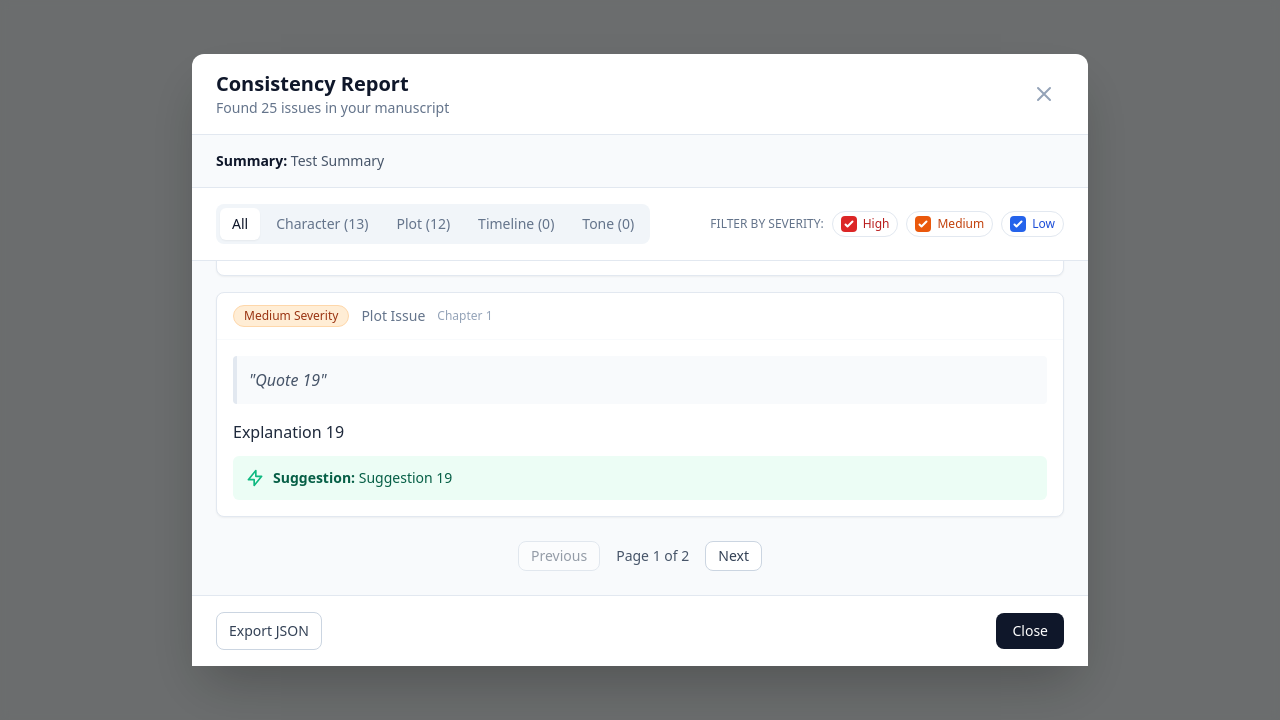
Test case: ConsistencyReportViewer › navigates to next page
This screenshot has width=1280, height=720.
(page scrolled)
Click the button "Next" at (734, 556), box [705, 541, 762, 571]
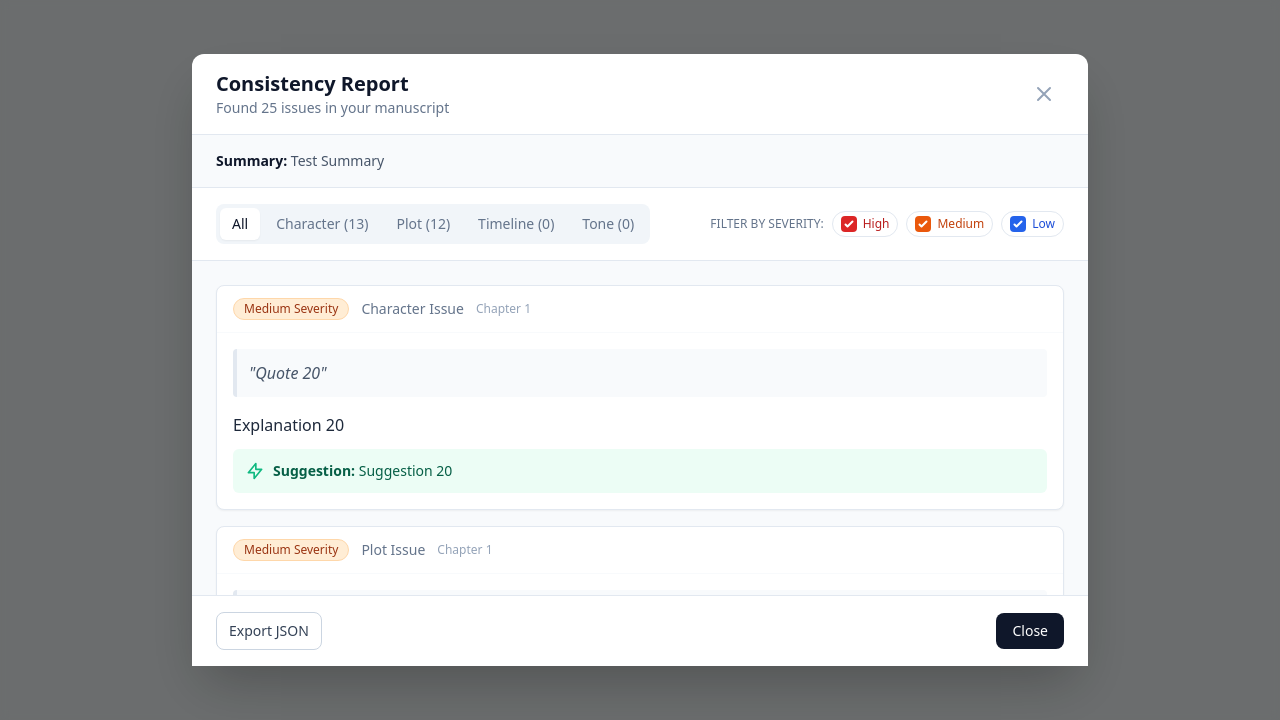
Now the text "\"Quote 20\"" is shown, box [249, 361, 326, 385]
